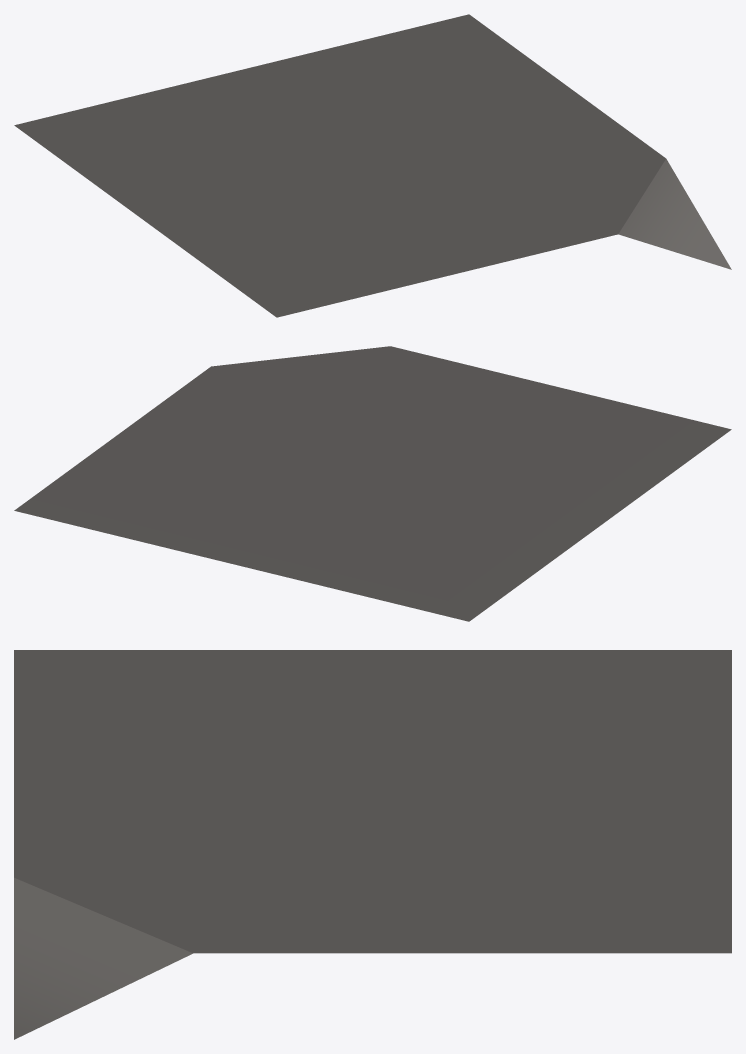
The model's file is AI_Env_Sewer_Roof_Corner_OpenOut.fbx.
The picture shows the model from 3 angles, top to bottom: view 1: azimuth 30°, elevation 25°; view 2: azimuth 150°, elevation 25°; view 3: azimuth 270°, elevation 25°; orthographic projection. The views are drawn at different scales.
Visible parts, largest first — view 1: AI_Env_Sewer_Roof_Corner_OpenOut; view 2: AI_Env_Sewer_Roof_Corner_OpenOut; view 3: AI_Env_Sewer_Roof_Corner_OpenOut.
Boxes of the visible parts, x1,y1,x2,y2 form: AI_Env_Sewer_Roof_Corner_OpenOut: [14, 14, 731, 317]; AI_Env_Sewer_Roof_Corner_OpenOut: [14, 346, 731, 621]; AI_Env_Sewer_Roof_Corner_OpenOut: [14, 650, 731, 1039].
Bounding box in the file's own units: 5 × 0.6645 × 5.
